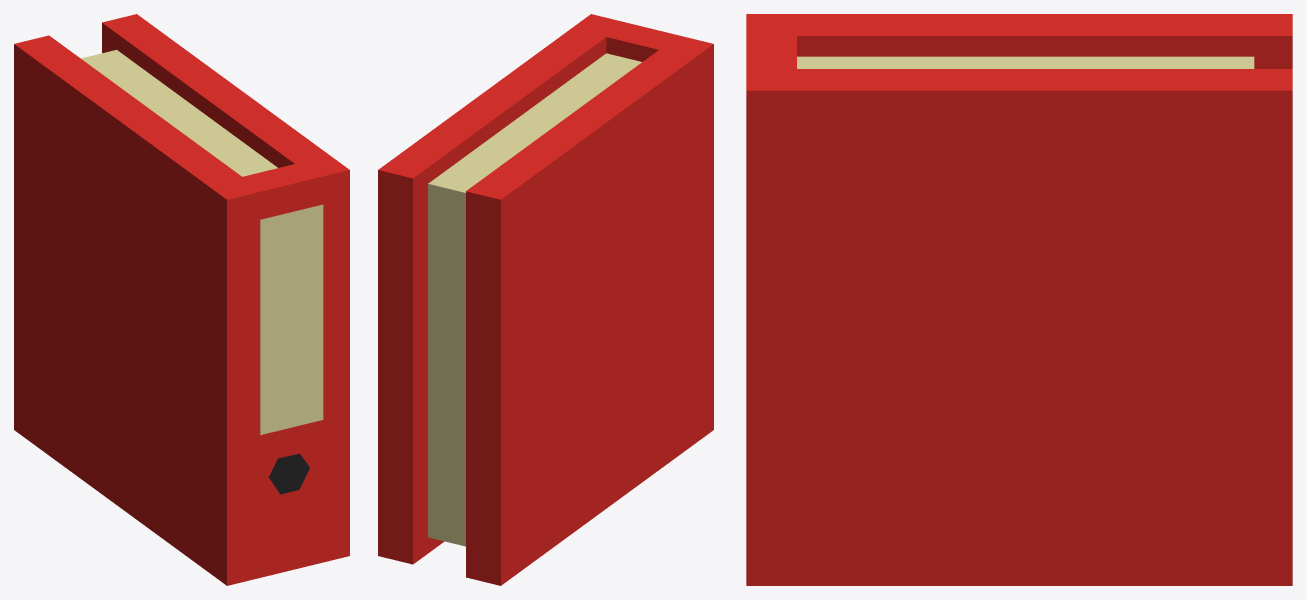
Rendered from RedCarpet.fbx.
3 views of the same model, side by side, from view 1: azimuth 30°, elevation 25°; view 2: azimuth 150°, elevation 25°; view 3: azimuth 270°, elevation 25° (orthographic). The views are drawn at different scales.
Parts seen in each view (by area): view 1: Cube.227; view 2: Cube.227; view 3: Cube.227.
Part boxes in pixels (x1,y1,x2,y2): Cube.227: (14, 14, 349, 585); Cube.227: (378, 14, 713, 585); Cube.227: (746, 14, 1292, 585).
Bounding box in the file's own units: 66.51 × 200 × 201.
